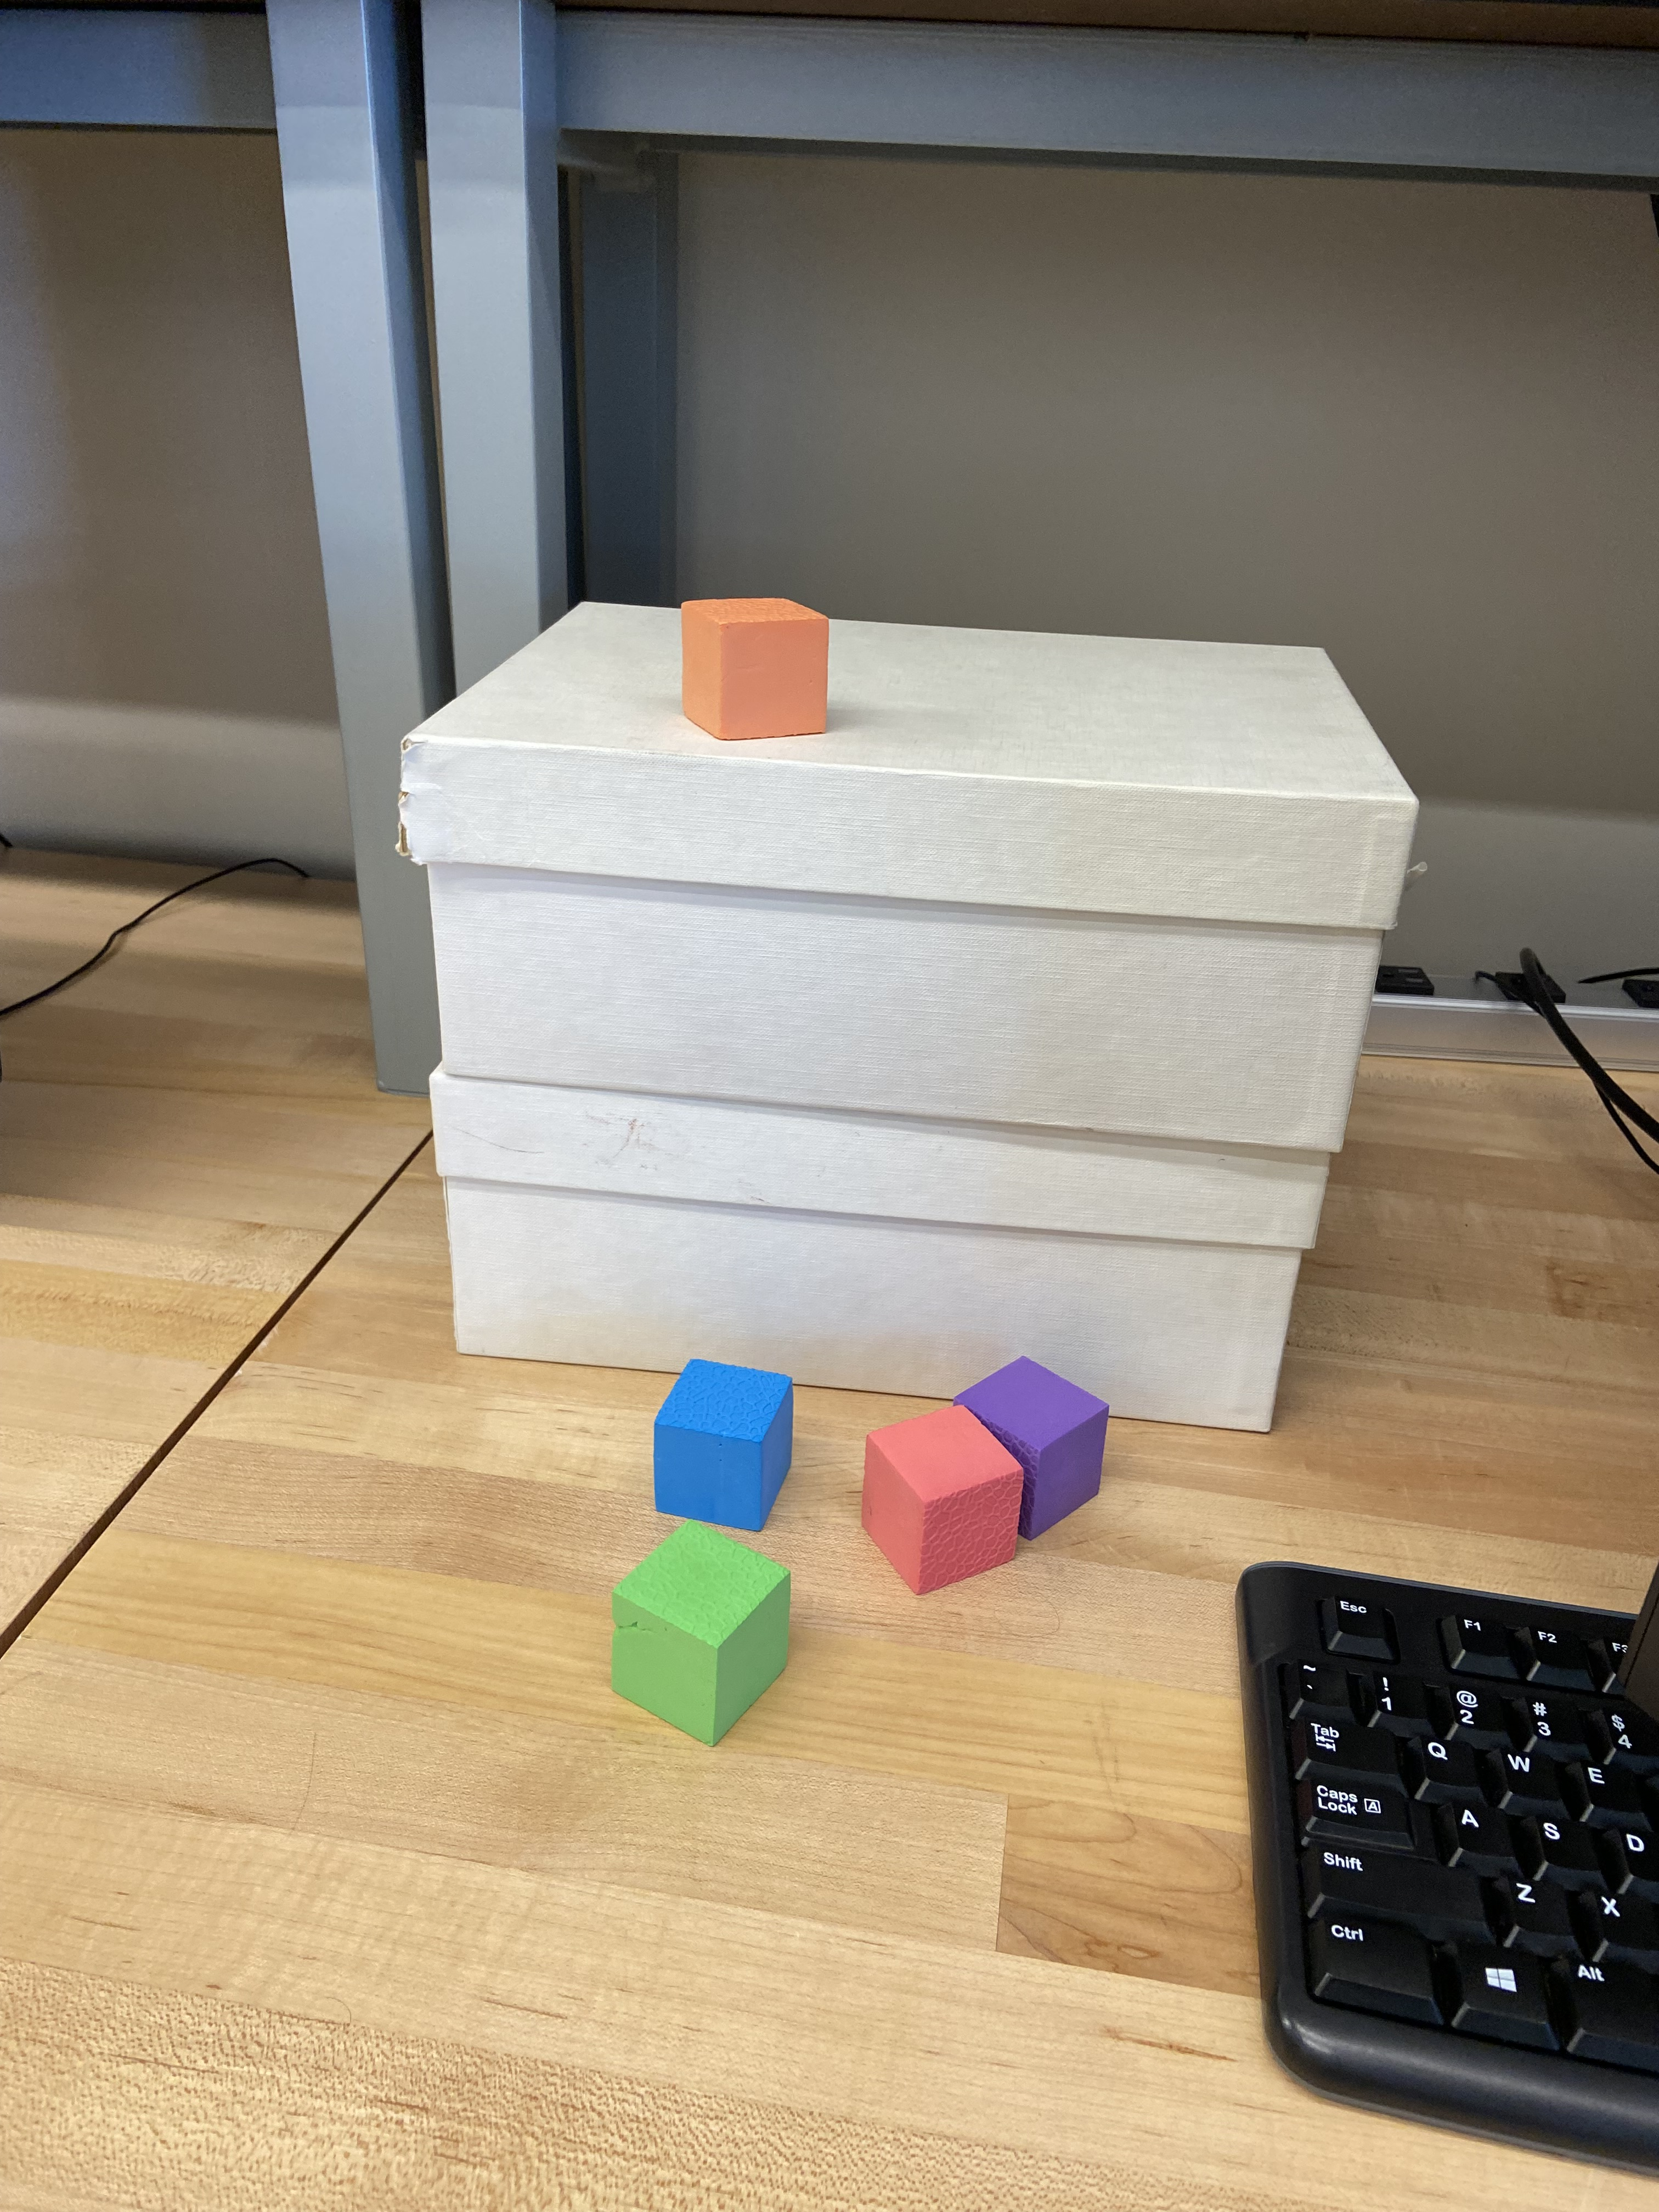Cube: (610, 1536, 782, 1733), (972, 1346, 1114, 1536), (657, 1350, 803, 1527), (870, 1420, 1009, 1590), (676, 596, 826, 738)
